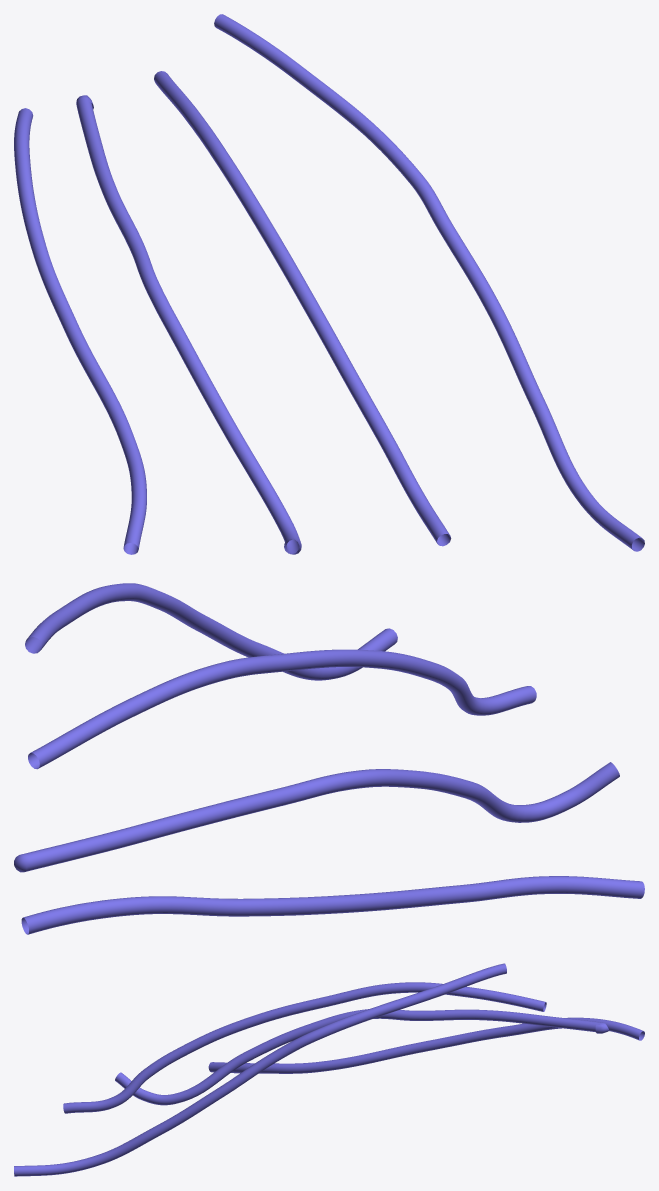
File: Plantar_metatarsal_veins.r_BezierCurve.361.glb
The picture shows the model from 3 angles, top to bottom: view 1: azimuth 30°, elevation 25°; view 2: azimuth 150°, elevation 25°; view 3: azimuth 270°, elevation 25°; orthographic projection. The views are drawn at different scales.
Visible parts, largest first — view 1: Plantar_metatarsal_veins.r_BezierCurve.361; view 2: Plantar_metatarsal_veins.r_BezierCurve.361; view 3: Plantar_metatarsal_veins.r_BezierCurve.361.
Part boxes in pixels (x1,y1,x2,y2): Plantar_metatarsal_veins.r_BezierCurve.361: (14, 14, 644, 554); Plantar_metatarsal_veins.r_BezierCurve.361: (14, 583, 644, 934); Plantar_metatarsal_veins.r_BezierCurve.361: (14, 963, 644, 1176).
Size of the model in its own units: 0.04 by 0.0308 by 0.0844.
